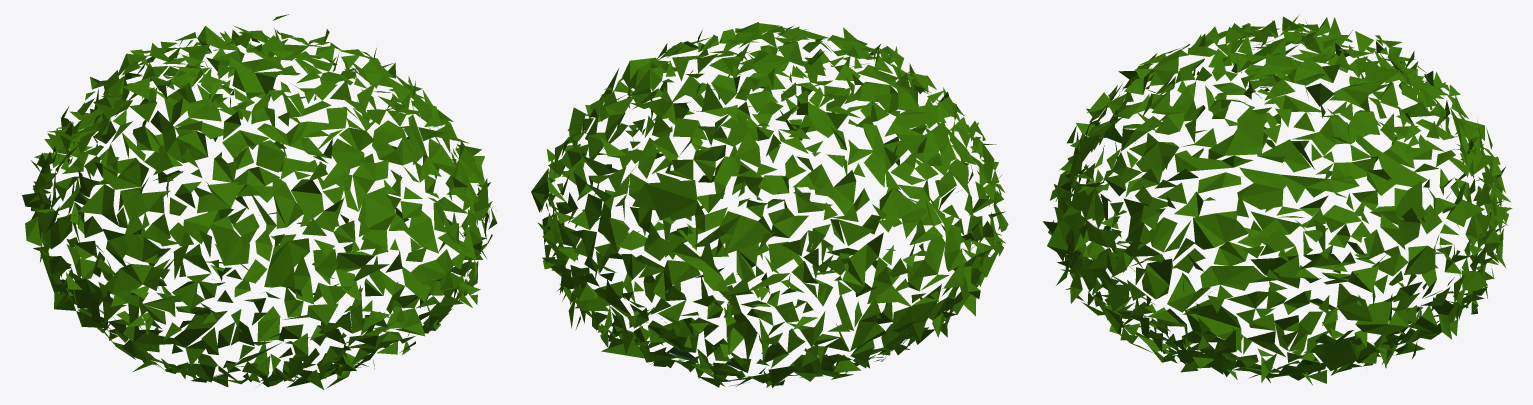
Rendered from bush.glb.
The picture shows the model from 3 angles, left to right: view 1: azimuth 30°, elevation 25°; view 2: azimuth 150°, elevation 25°; view 3: azimuth 270°, elevation 25°; orthographic projection.
Parts seen in each view (by area): view 1: textured_mesh.obj; view 2: textured_mesh.obj; view 3: textured_mesh.obj.
Boxes of the visible parts, <box> form: textured_mesh.obj: <box>22,14,497,389</box>; textured_mesh.obj: <box>531,22,1008,387</box>; textured_mesh.obj: <box>1042,14,1512,385</box>.
Size of the model in its own units: 2 by 1.34 by 1.99.
Materials: 1 (1 with a texture image).
